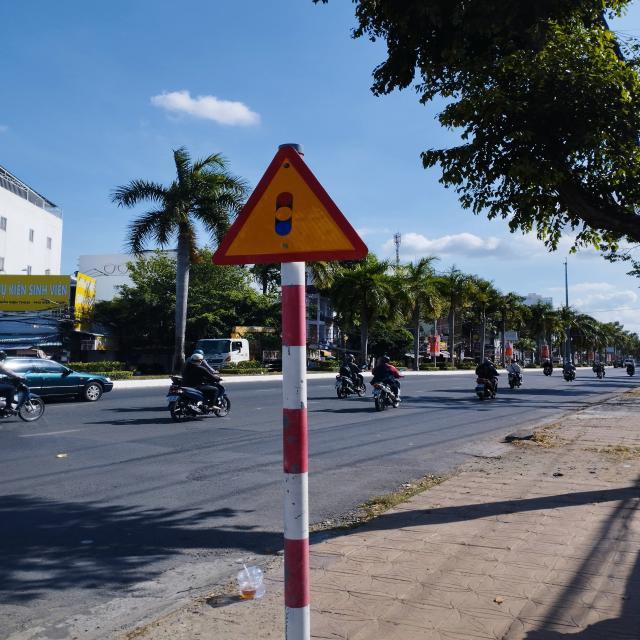Duong_Co_Go_Giam_Toc: (210, 144, 370, 266)
